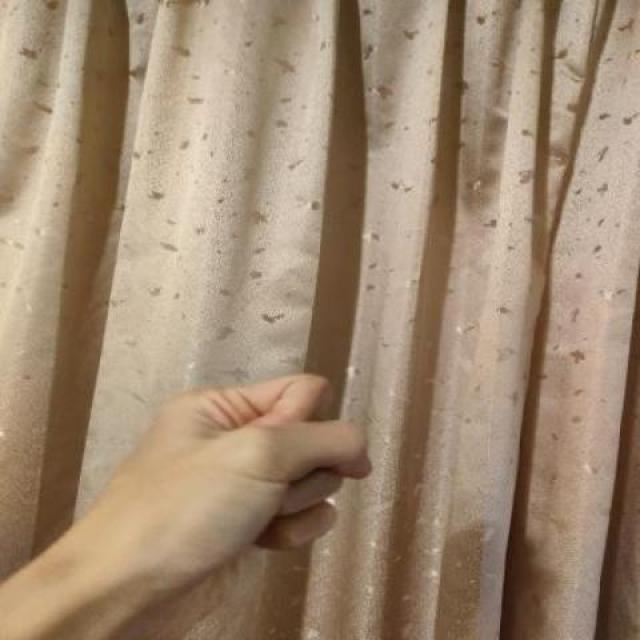Closed Hand: (109, 364, 378, 612)
